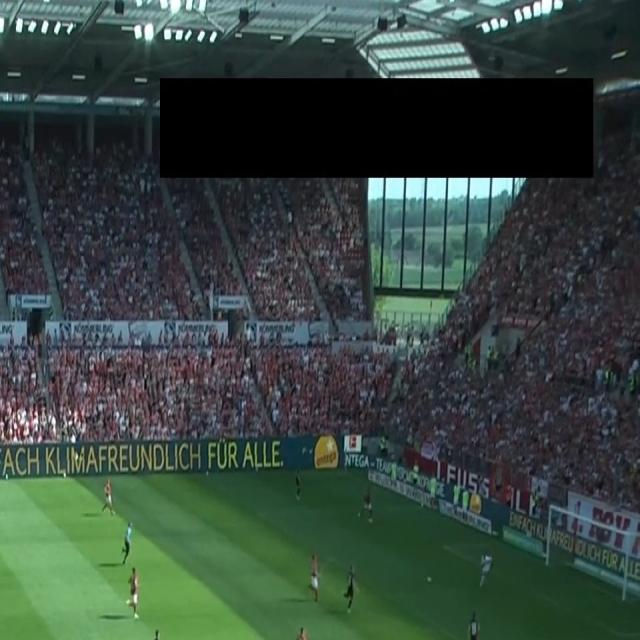ball: (427, 575, 432, 584)
